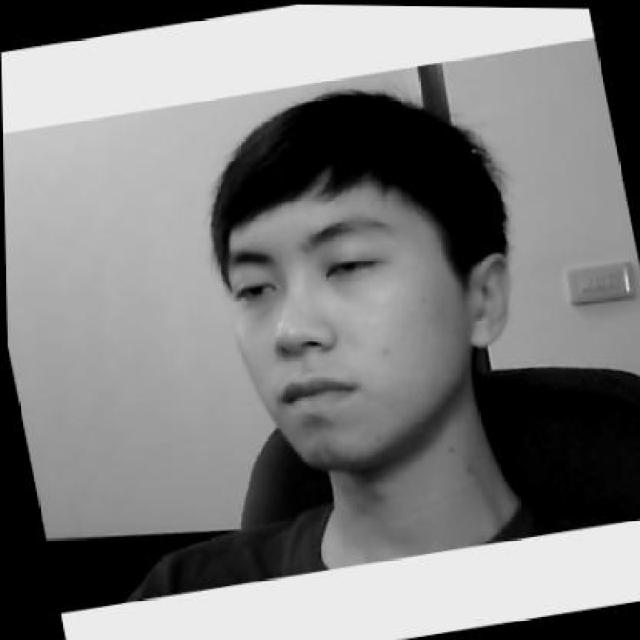inattentif: (184, 63, 538, 485)
